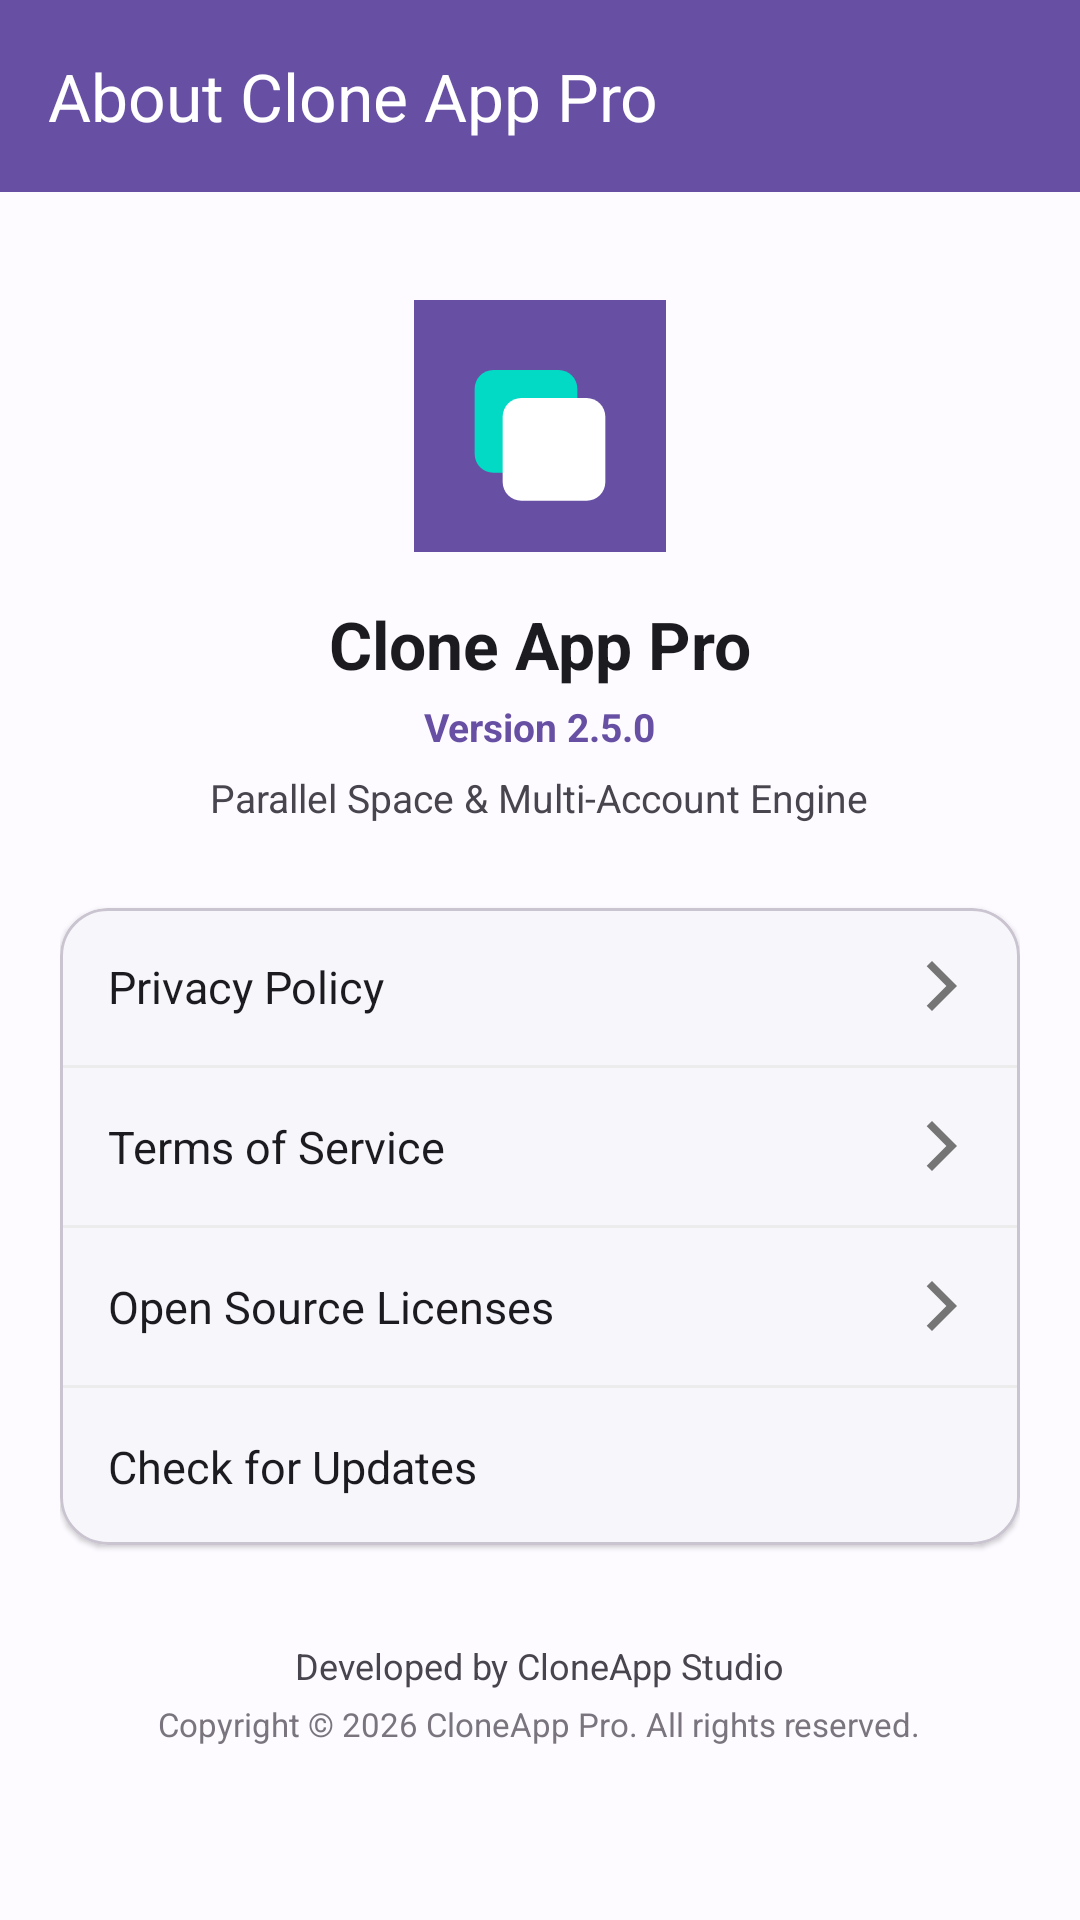

Where icons sit on this 1080*1920 app screen, as Rect(x1, y1, x2, y2):
arrow forward: Rect(927, 961, 957, 1011), Rect(927, 1121, 957, 1171), Rect(927, 1281, 957, 1331)
